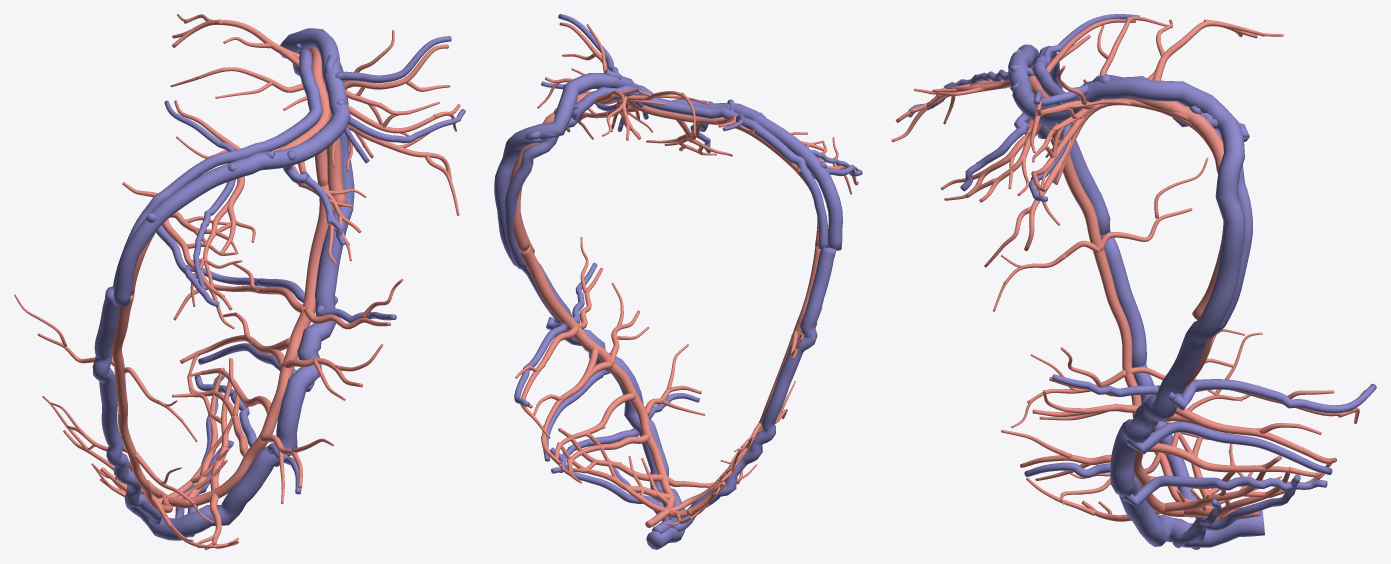
Rendered from vessels_67.glb.
3 renders of one model, left to right at view 1: azimuth 30°, elevation 25°; view 2: azimuth 150°, elevation 25°; view 3: azimuth 270°, elevation 25°, orthographic. The views are drawn at different scales.
Parts seen in each view (by area): view 1: Renderer Node; view 2: Renderer Node; view 3: Renderer Node.
Boxes of the visible parts, x1,y1,x2,y2 form: Renderer Node: [14, 14, 465, 549]; Renderer Node: [494, 14, 862, 549]; Renderer Node: [891, 14, 1376, 549].
Size of the model in its own units: 95.13 by 124 by 95.58.
